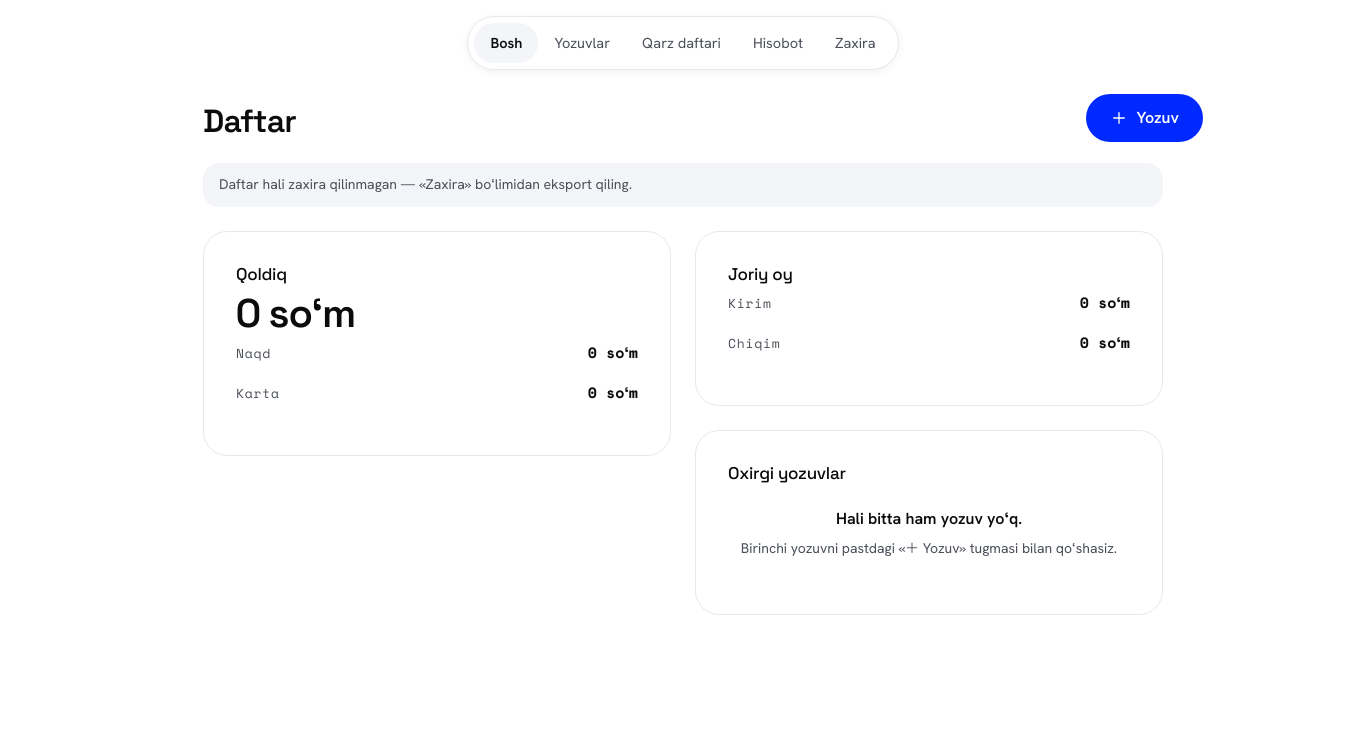
Test case: kirim turida faqat kirim kategoriyalari koʻrinadi (mezon 16)
Click the button "Bosh". click: {"x": 506, "y": 43}
box: [474,23,538,63]
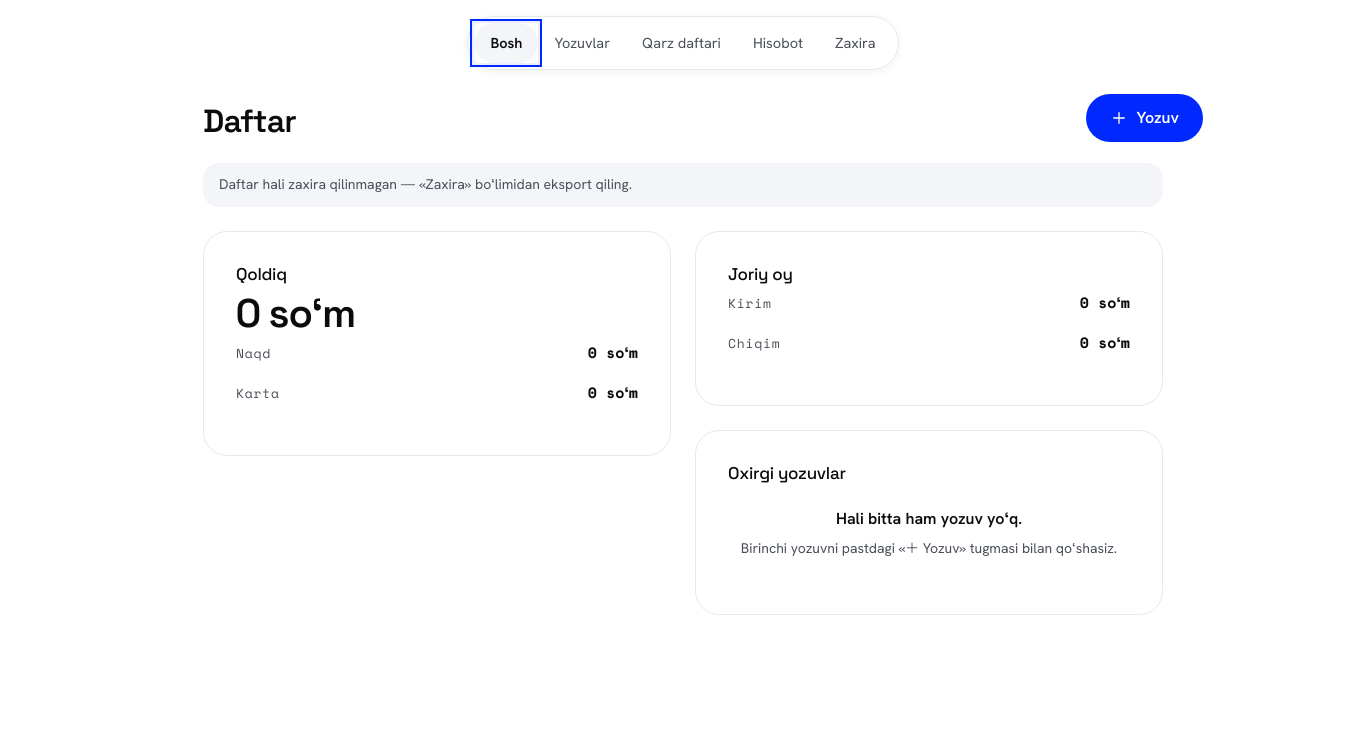
Click the button named "＋ Yozuv". click: {"x": 1145, "y": 118}
box: [1086,94,1203,142]
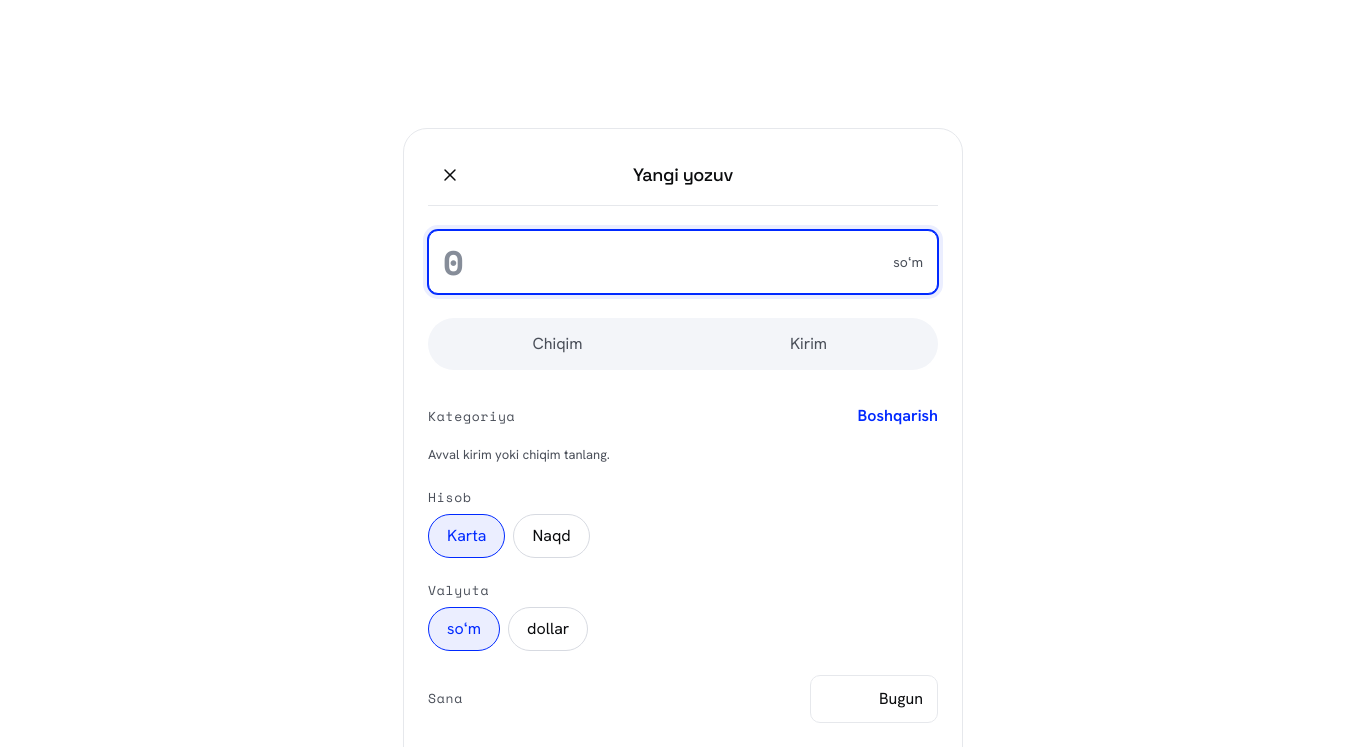
Expected: the heading "Yangi yozuv" is shown, [633,164,733,186]
Click the button "Kirim". click: {"x": 808, "y": 344}
box: [683,322,934,366]
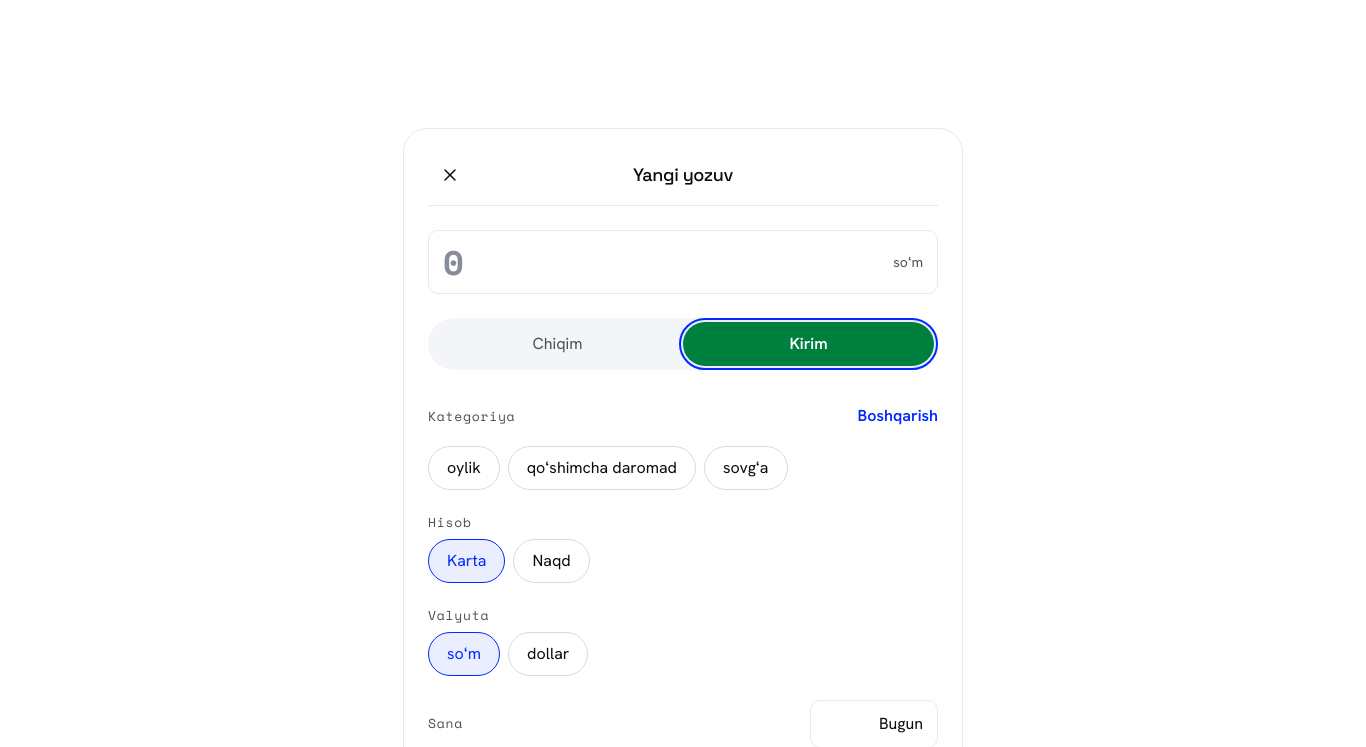
Expected: the button "oylik" is shown, [428,446,500,490]
